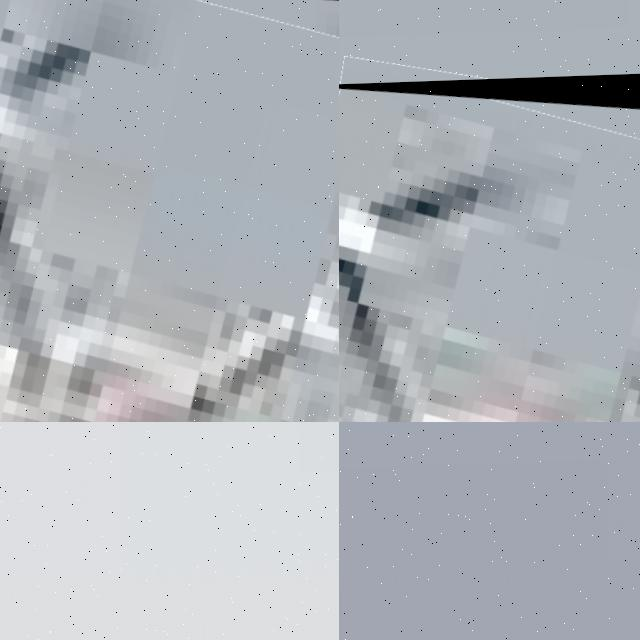drone: (0, 0, 339, 422), (339, 63, 640, 422)
